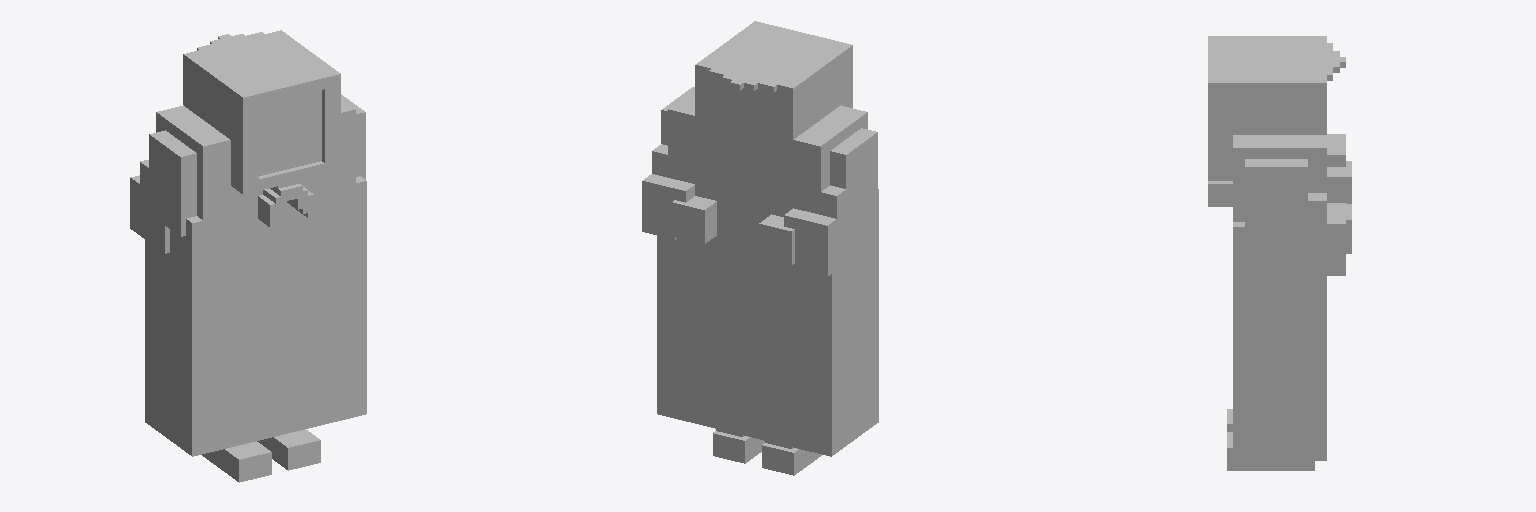
Rendered from babushka.obj.
The picture shows the model from 3 angles: view 1: azimuth 30°, elevation 25°; view 2: azimuth 150°, elevation 25°; view 3: azimuth 270°, elevation 25°; orthographic projection.
Size of the model in its own units: 34 by 69 by 23.